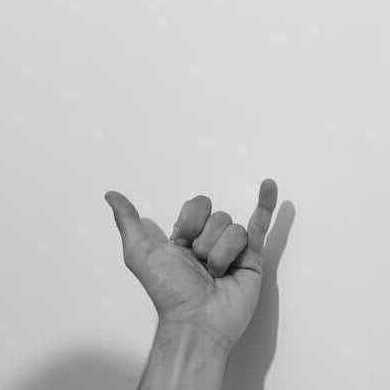Y: (104, 178, 278, 341)
